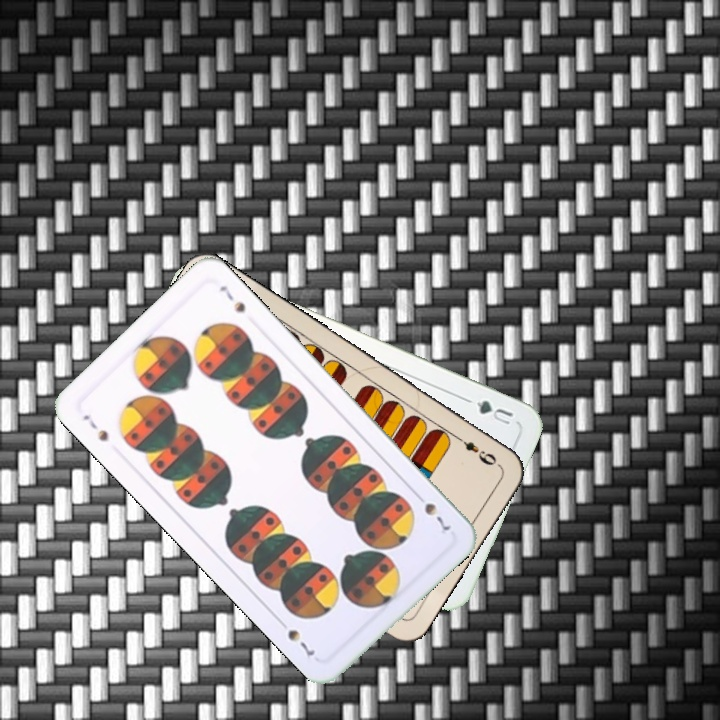E9: (450, 430, 500, 469)
GU: (472, 396, 516, 428)
S7: (410, 488, 453, 533), (78, 410, 111, 445)
